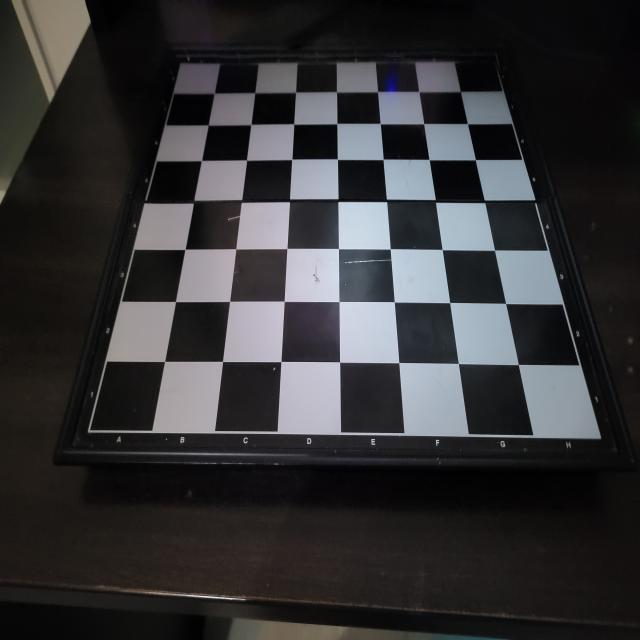chess-board: (78, 38, 624, 476)
